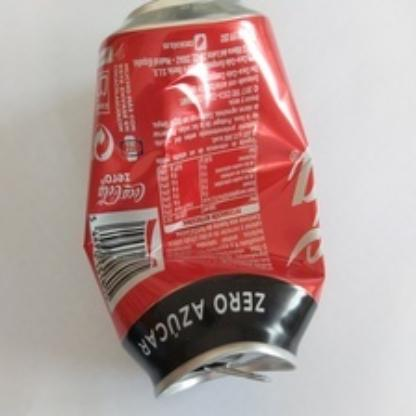Can: (81, 0, 324, 400)
